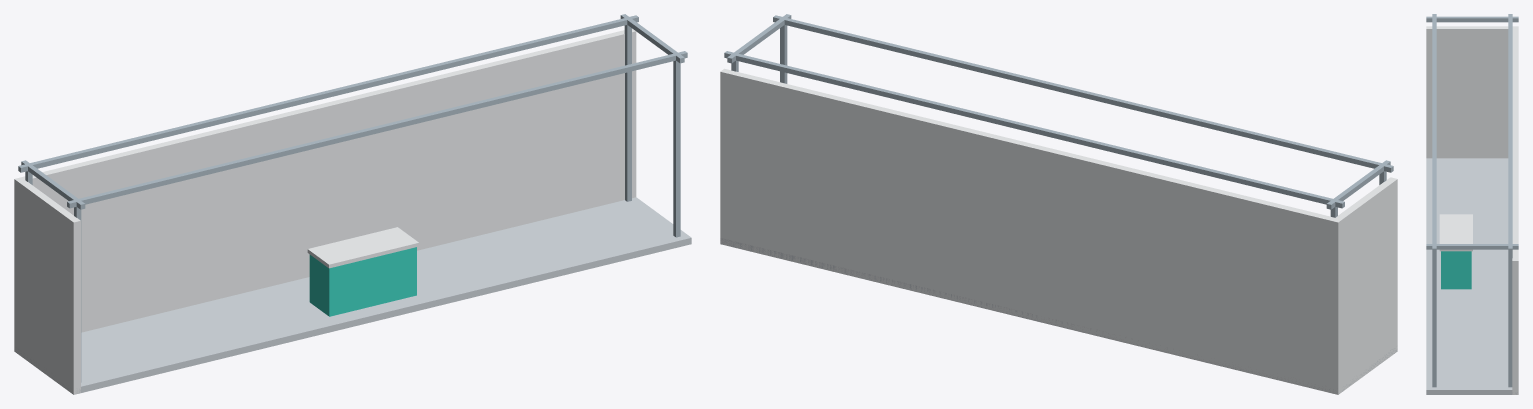
3 views of the same model, side by side, from view 1: azimuth 30°, elevation 25°; view 2: azimuth 150°, elevation 25°; view 3: azimuth 270°, elevation 25° (orthographic). The views are drawn at different scales.
Visible parts, largest first — view 1: Exhibition Booth Concept; view 2: Exhibition Booth Concept; view 3: Exhibition Booth Concept.
Part boxes in pixels (box(x1,y1,x2,y2)): Exhibition Booth Concept: box(14, 14, 691, 394); Exhibition Booth Concept: box(720, 14, 1397, 394); Exhibition Booth Concept: box(1426, 14, 1518, 394).
Size of the model in its own units: 12 by 3.49 by 2.
